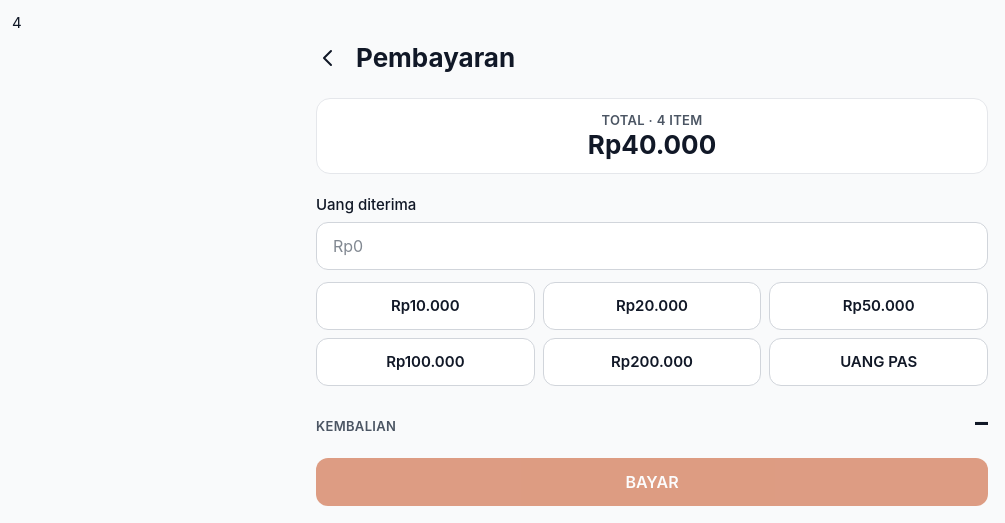
it: PaymentForm (UI_SPEC A.12–A.13, TEST_PLAN G.4) › total 40000, paid 50000 → change Rp10.000 and Bayar enabled (AC-04)
Expected: the text "Rp40.000" is shown, [588,129,716,160]
Type "50000" into the field labelled "Uang diterima".
click(652, 246); type("50000")  # box [316,222,988,270]
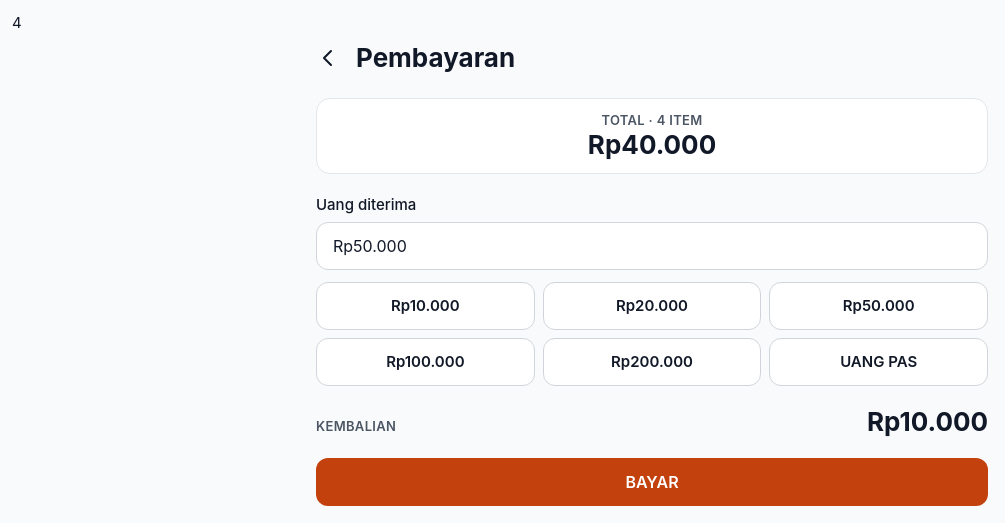
Expected: the button "Rp10.000" is shown, [316,282,535,330]
Result: the field labelled "Uang diterima" holds "Rp50.000" at [316,222,988,270]
Result: the button "BAYAR" is enabled at [316,458,988,506]
